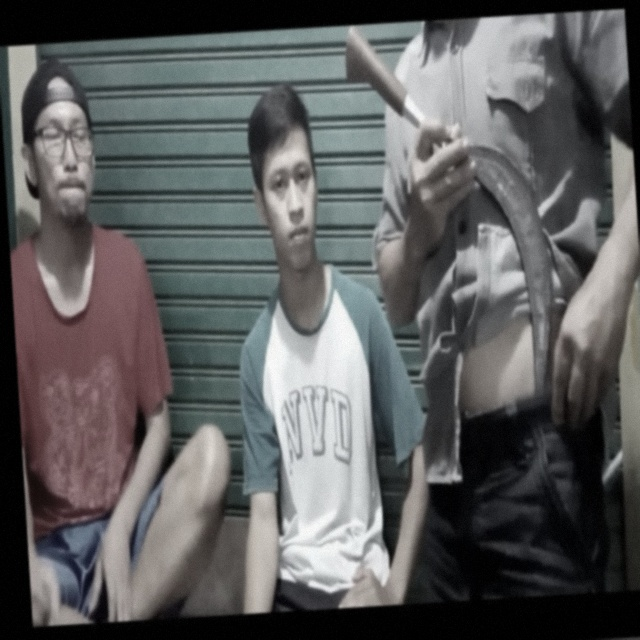Sharp-Object: (313, 9, 576, 411)
